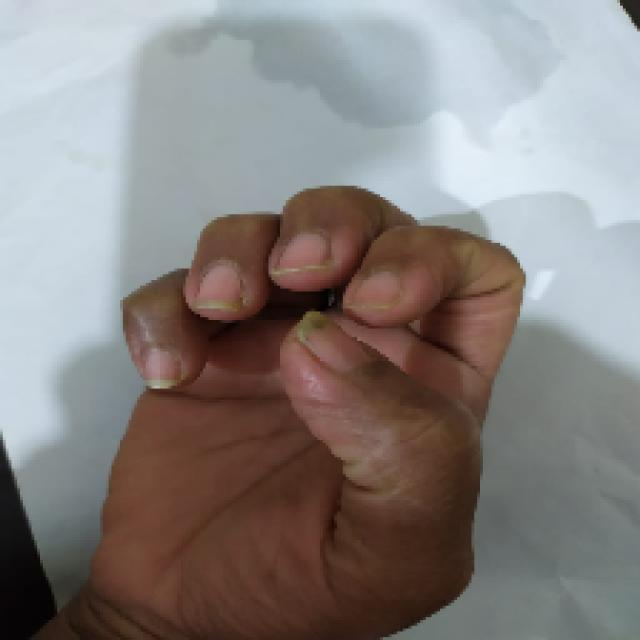Nail: (295, 312, 368, 372), (270, 234, 330, 276), (196, 260, 244, 310), (349, 272, 402, 310), (145, 352, 180, 389)
